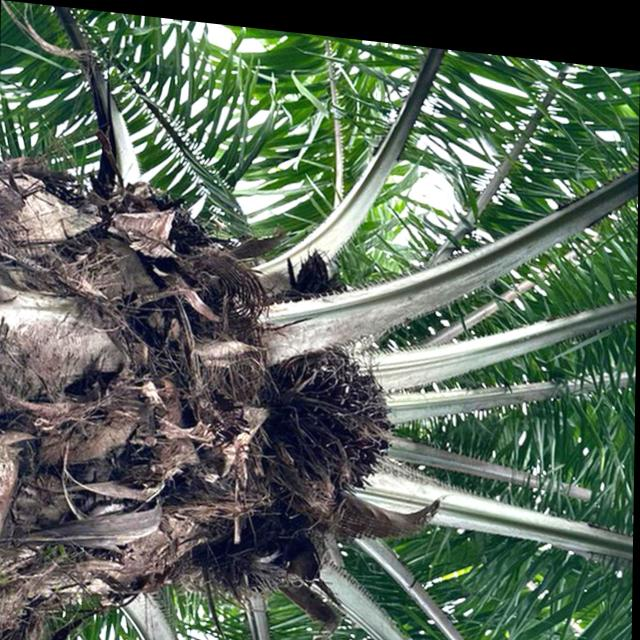almost: (273, 321, 398, 501)
